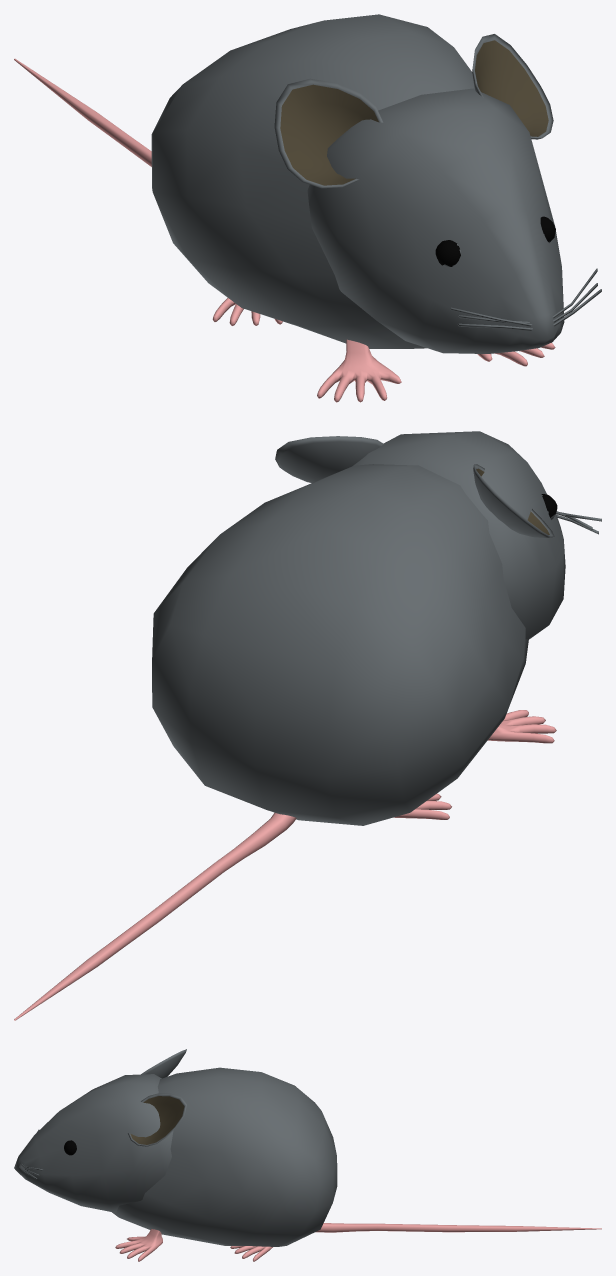
The model's file is mouse.glb.
3 renders of one model, top to bottom at view 1: azimuth 30°, elevation 25°; view 2: azimuth 150°, elevation 25°; view 3: azimuth 270°, elevation 25°, orthographic. The views are drawn at different scales.
Parts seen in each view (by area): view 1: Maus; view 2: Maus; view 3: Maus.
Part boxes in pixels (bbox=[...]): Maus: bbox=[14, 14, 601, 402]; Maus: bbox=[14, 431, 601, 1020]; Maus: bbox=[14, 1049, 601, 1261].
Size of the model in its own units: 0.9267 by 0.8518 by 2.83.
